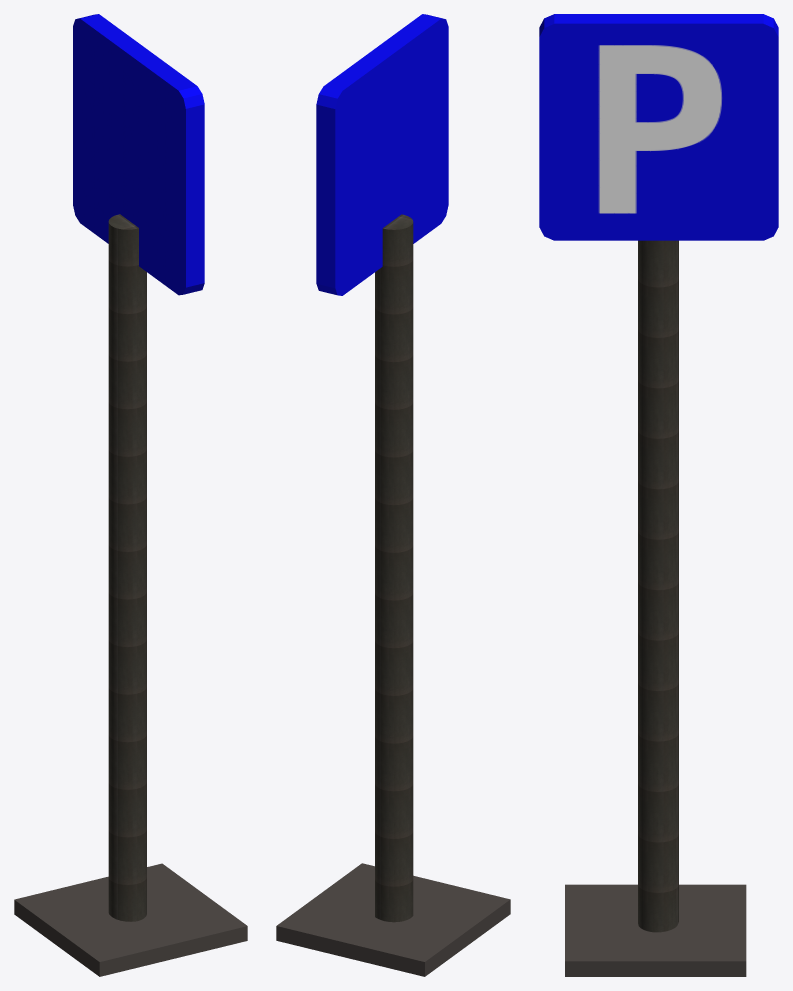
File: parking_sign.obj
The picture shows the model from 3 angles, left to right: view 1: azimuth 30°, elevation 25°; view 2: azimuth 150°, elevation 25°; view 3: azimuth 270°, elevation 25°; orthographic projection. The views are drawn at different scales.
Parts seen in each view (by area): view 1: Cube_Cube.001, SketchUp.001_ID10.001, SketchUp_ID2.001; view 2: Cube_Cube.001, SketchUp.001_ID10.001, SketchUp_ID2.001; view 3: Cube_Cube.001, SketchUp.001_ID10.001, SketchUp_ID2.001.
Boxes of the visible parts, left/top/right/bottom form: Cube_Cube.001: left=73, top=14, right=204, bottom=295; SketchUp.001_ID10.001: left=108, top=214, right=146, bottom=921; SketchUp_ID2.001: left=14, top=863, right=247, bottom=976; Cube_Cube.001: left=316, top=14, right=448, bottom=295; SketchUp.001_ID10.001: left=375, top=214, right=413, bottom=922; SketchUp_ID2.001: left=276, top=863, right=510, bottom=976; Cube_Cube.001: left=539, top=14, right=778, bottom=240; SketchUp.001_ID10.001: left=638, top=240, right=678, bottom=932; SketchUp_ID2.001: left=565, top=884, right=746, bottom=976.
Size of the model in its own units: 0.0349 by 0.1965 by 0.0461.
